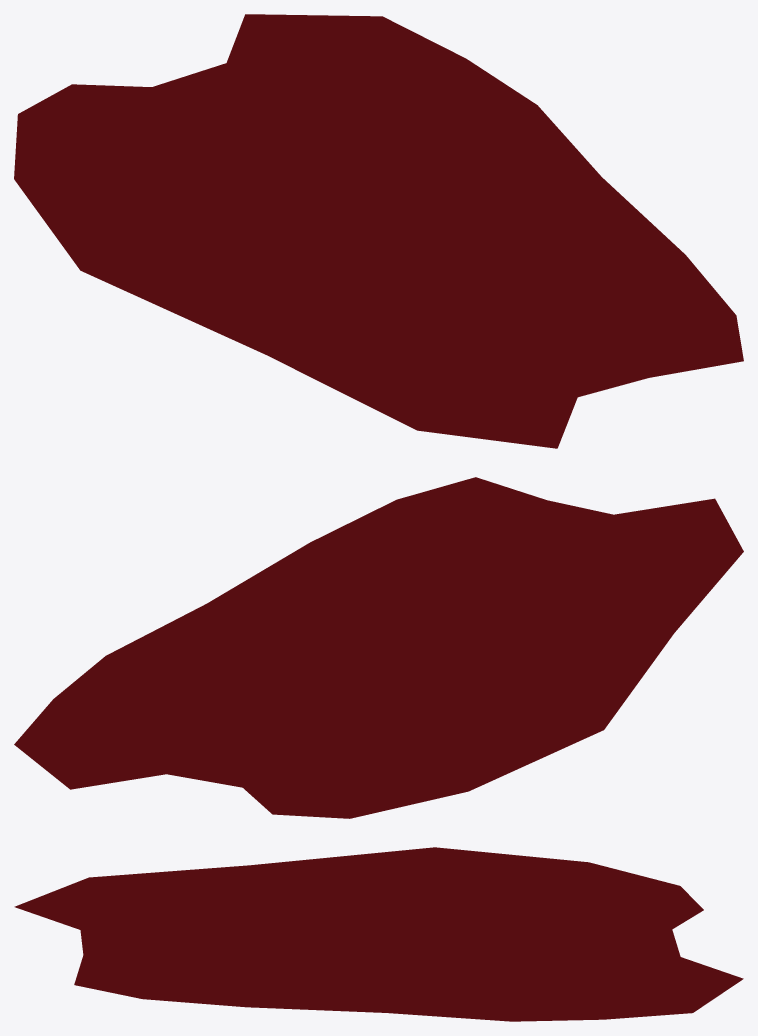
Rendered from BloodPuddle.fbx.
The picture shows the model from 3 angles, top to bottom: view 1: azimuth 30°, elevation 25°; view 2: azimuth 150°, elevation 25°; view 3: azimuth 270°, elevation 25°; orthographic projection. The views are drawn at different scales.
Parts seen in each view (by area): view 1: Plane; view 2: Plane; view 3: Plane.
Boxes of the visible parts, bbox=[...] form: Plane: bbox=[14, 14, 743, 448]; Plane: bbox=[14, 477, 743, 818]; Plane: bbox=[14, 847, 743, 1021].
Size of the model in its own units: 193 by 5.6e-05 by 341.
